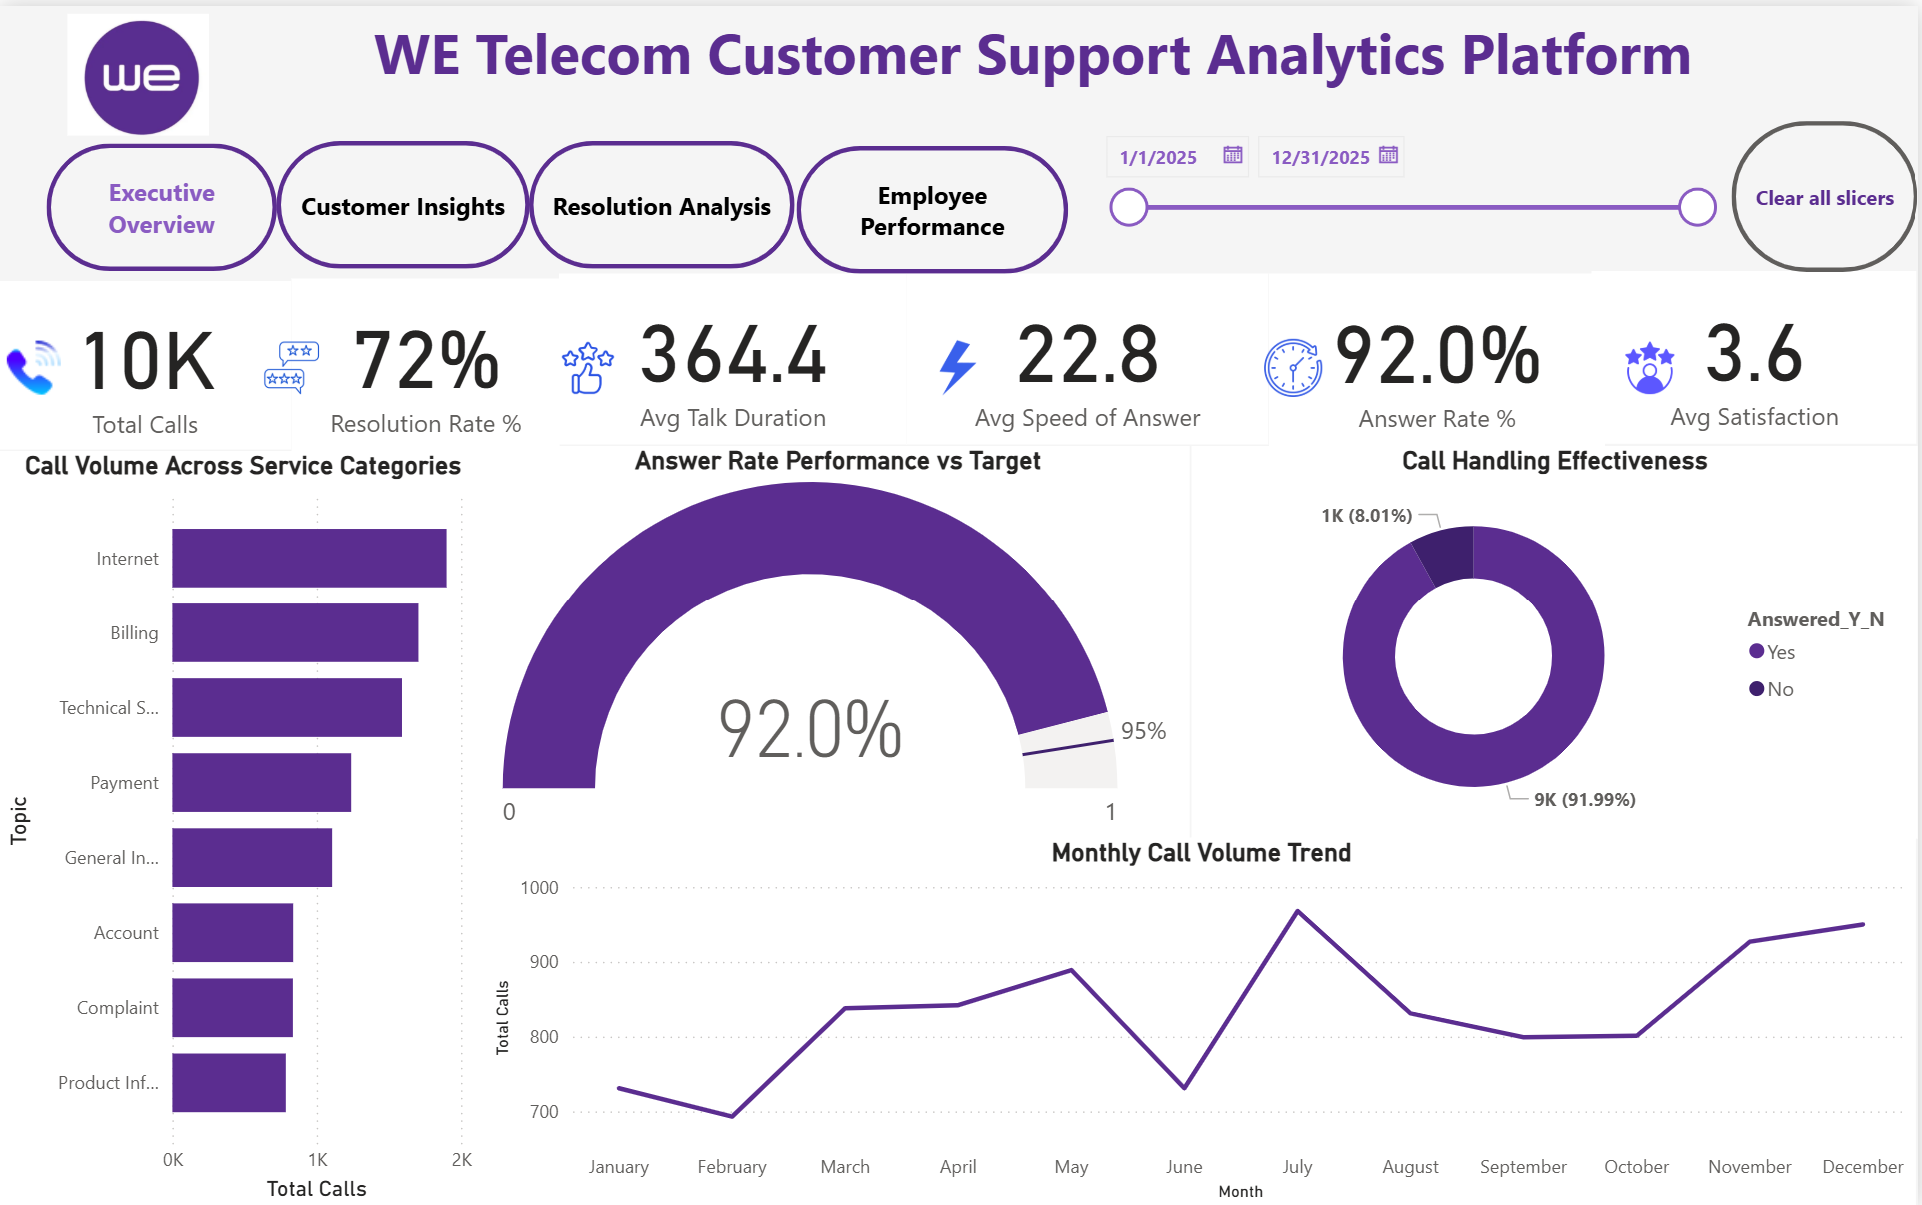

The dashboard page shown, as its layout file describes it:
{"tool":"powerbi","page":{"name":"Executive Overview","canvas":[1280,801],"ordinal":0},"visuals":[{"type":"card","fields":{"Values":["Measure.Total Calls"]},"box":[0,184.1,194.7,112.6],"z":0},{"type":"card","fields":{"Values":["Measure.Avg Satisfaction"]},"box":[1062.2,177.5,217.2,115.2],"z":1000},{"type":"card","fields":{"Values":["Measure.Avg Speed of Answer"]},"box":[605.3,178.8,241,113.9],"z":2000},{"type":"card","fields":{"Values":["Measure.Avg Talk Duration"]},"box":[373.5,178.8,231.8,113.9],"z":3000},{"type":"image","box":[0,215.9,46.4,49],"z":4000},{"type":"image","box":[361.6,215.9,62.2,49],"z":5000},{"type":"image","box":[1070.1,215.9,60.9,49],"z":6000},{"type":"image","box":[607.9,215.9,62.2,49],"z":7000},{"type":"lineChart","title":"Monthly Call Volume Trend","fields":{"Category":["Calls.Date.Variation.Date Hierarchy.Month"],"Y":["Measure.Total Calls"]},"box":[325.8,554.9,953.6,246.3],"z":8000},{"type":"gauge","title":"Answer Rate Performance vs Target","fields":{"Y":["Measure.Answer Rate %"],"TargetValue":["Measure.Target"],"MaxValue":["Measure.max"],"MinValue":["Measure.min"]},"box":[325.8,292.7,468.8,264.9],"z":9000},{"type":"card","fields":{"Values":["Measure.Answer Rate %"]},"box":[846.3,178.8,223.8,115.2],"z":10000},{"type":"image","box":[835.7,215.9,55.6,49],"z":11000},{"type":"card","fields":{"Values":["Measure.Resolution Rate %"]},"box":[194.7,181.4,178.8,115.2],"z":12000},{"type":"image","box":[162.9,215.9,63.6,49],"z":13000},{"type":"clusteredBarChart","title":" Call Volume Across Service Categories","fields":{"Category":["Calls.Topic"],"Y":["Measure.Total Calls"]},"box":[0,296.7,325.8,504.6],"z":14000},{"type":"donutChart","title":"Call Handling Effectiveness","fields":{"Category":["Calls.Answered_Y_N"],"Y":["Measure.Total Calls"]},"box":[794.6,292.7,484.7,262.2],"z":15000},{"type":"actionButton","box":[1154.9,76.8,124.5,100.7],"z":16000},{"type":"textbox","box":[100.7,0,1178.7,76.8],"z":17000},{"type":"image","box":[0,0,185.4,91.4],"z":18000},{"type":"actionButton","box":[185.2,90.6,168.8,85.1],"z":19000},{"type":"actionButton","box":[354,89.2,177,85.1],"z":20000},{"type":"actionButton","box":[531,93.3,181.1,85.1],"z":21000},{"type":"actionButton","box":[31.6,91.9,153.7,85.1],"z":22000},{"type":"slicer","fields":{"Values":["Calls.Date"]},"box":[725.7,77.1,428.6,97.1],"z":23000}]}

Visuals, with their boxes in screenshot pixels (x1, y1, x2, y2), scaled from the page's 1280x801 canvas onto the 1922x1205 screenshot:
card - Measure.Total Calls: pyautogui.locateOnScreen(0, 277, 292, 446)
card - Measure.Avg Satisfaction: pyautogui.locateOnScreen(1595, 267, 1921, 440)
card - Measure.Avg Speed of Answer: pyautogui.locateOnScreen(909, 269, 1271, 440)
card - Measure.Avg Talk Duration: pyautogui.locateOnScreen(561, 269, 909, 440)
image: pyautogui.locateOnScreen(0, 325, 70, 399)
image: pyautogui.locateOnScreen(543, 325, 636, 399)
image: pyautogui.locateOnScreen(1607, 325, 1698, 399)
image: pyautogui.locateOnScreen(913, 325, 1006, 399)
"Monthly Call Volume Trend" lineChart: pyautogui.locateOnScreen(489, 835, 1921, 1204)
"Answer Rate Performance vs Target" gauge: pyautogui.locateOnScreen(489, 440, 1193, 839)
card - Measure.Answer Rate %: pyautogui.locateOnScreen(1271, 269, 1607, 442)
image: pyautogui.locateOnScreen(1255, 325, 1338, 399)
card - Measure.Resolution Rate %: pyautogui.locateOnScreen(292, 273, 561, 446)
image: pyautogui.locateOnScreen(245, 325, 340, 399)
" Call Volume Across Service Categories" clusteredBarChart: pyautogui.locateOnScreen(0, 446, 489, 1204)
"Call Handling Effectiveness" donutChart: pyautogui.locateOnScreen(1193, 440, 1921, 835)
actionButton: pyautogui.locateOnScreen(1734, 116, 1921, 267)
textbox: pyautogui.locateOnScreen(151, 0, 1921, 116)
image: pyautogui.locateOnScreen(0, 0, 278, 137)
actionButton: pyautogui.locateOnScreen(278, 136, 532, 264)
actionButton: pyautogui.locateOnScreen(532, 134, 797, 262)
actionButton: pyautogui.locateOnScreen(797, 140, 1069, 268)
actionButton: pyautogui.locateOnScreen(47, 138, 278, 266)
slicer - Calls.Date: pyautogui.locateOnScreen(1090, 116, 1733, 262)
